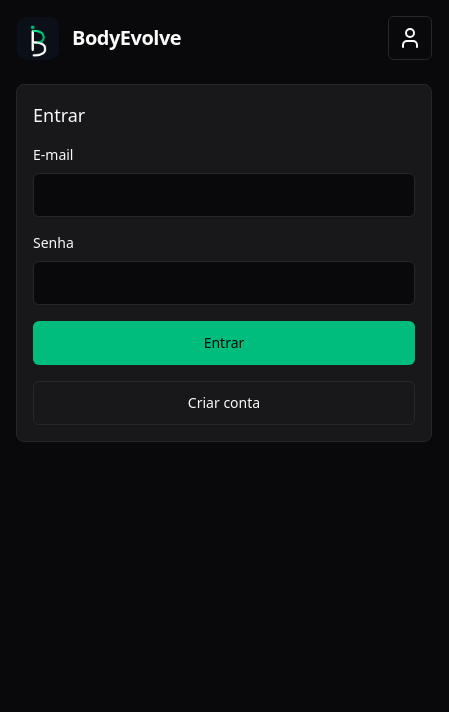
pede corpo e rotina quando a API ainda não tem manutenção
Type "ana@example.com" into the field labelled "E-mail" at coordinates (224, 195), box [33, 173, 415, 217]
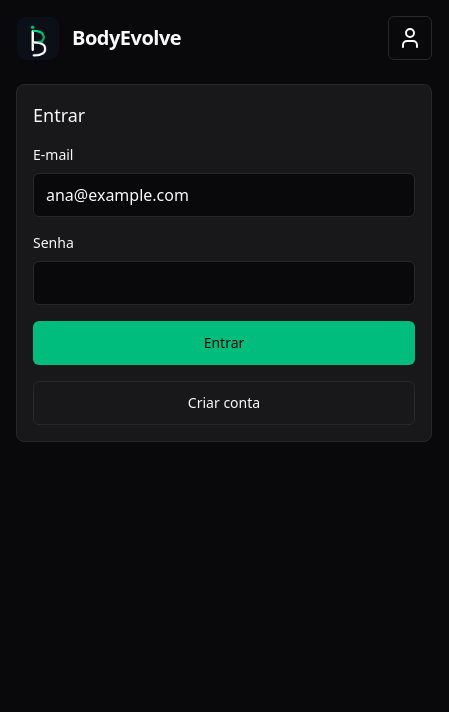
Type "senha-segura" into the password field labelled "Senha" at coordinates (224, 283), box [33, 261, 415, 305]
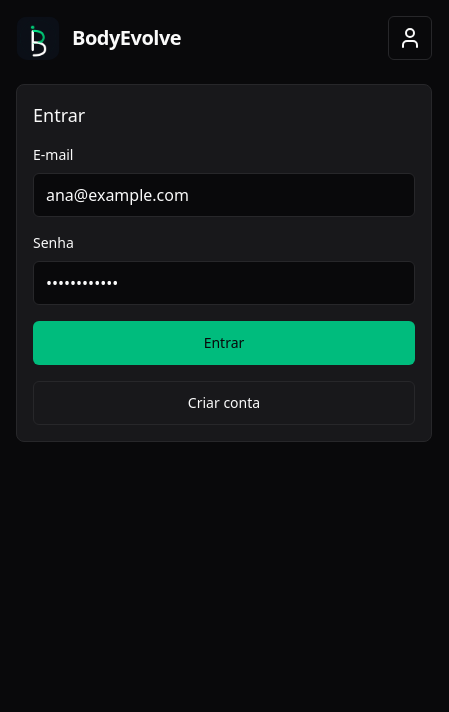
Submit the form "Entrar", box [33, 101, 415, 425]
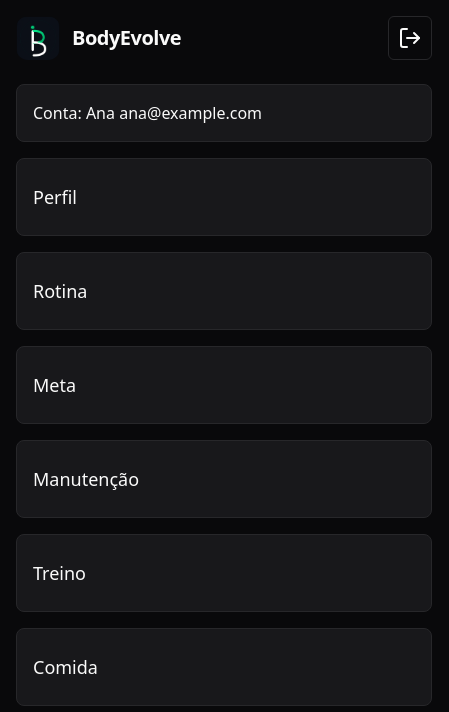
Click the link "Manutenção" at coordinates (86, 479), box [33, 467, 139, 491]
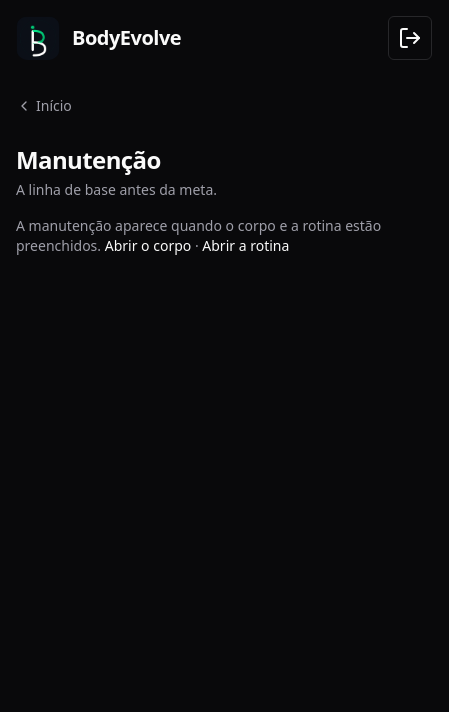
Expected: the text "quando o corpo e a rotina estão preenchidos" is shown, [16, 216, 381, 255]
